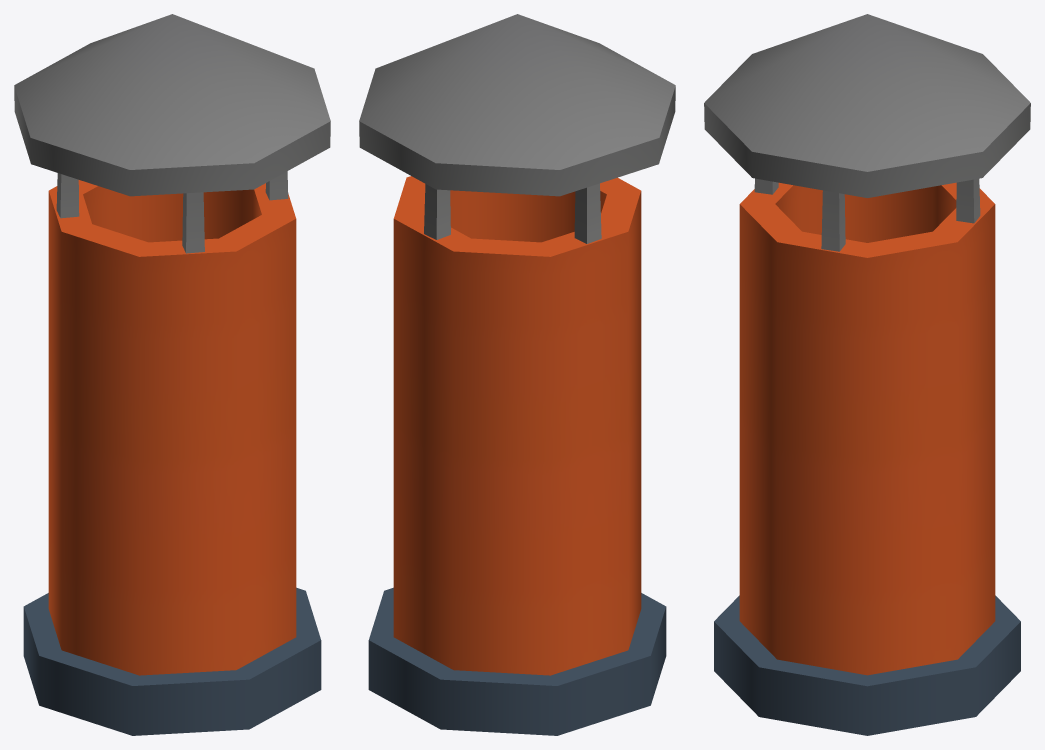
The model's file is Chimney_1_A_1.fbx.
The picture shows the model from 3 angles, left to right: view 1: azimuth 30°, elevation 25°; view 2: azimuth 150°, elevation 25°; view 3: azimuth 270°, elevation 25°; orthographic projection.
Parts seen in each view (by area): view 1: Chimney_1_A_1; view 2: Chimney_1_A_1; view 3: Chimney_1_A_1.
Part boxes in pixels (x1,y1,x2,y2): Chimney_1_A_1: (14,14,330,735); Chimney_1_A_1: (359,14,675,735); Chimney_1_A_1: (704,14,1030,735).
Size of the model in its own units: 65.76 by 146 by 65.76.
